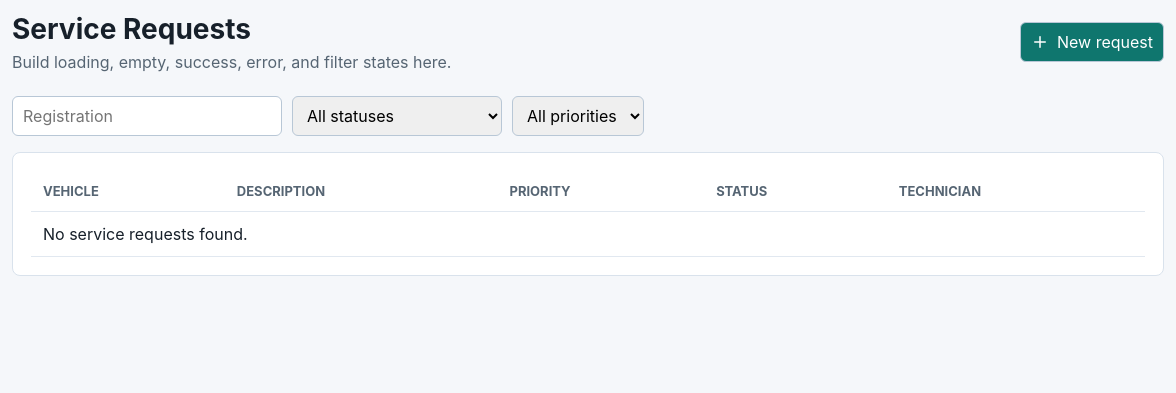
Test: ServiceRequestsPage training exercises › opens the request form when starting a new request
Click the button "New request": x=1092, y=42 1020,22 -> 1164,62
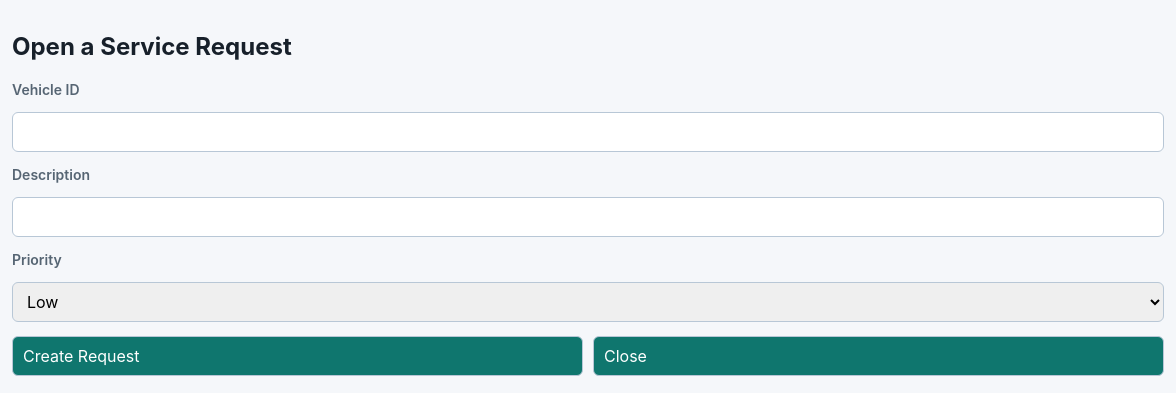
expect the heading "Open a Service Request" is shown: met, box 12,32 -> 292,61
expect the field labelled "Vehicle ID" is shown: met, box 12,112 -> 1164,152
expect the field labelled "Description" is shown: met, box 12,197 -> 1164,237
